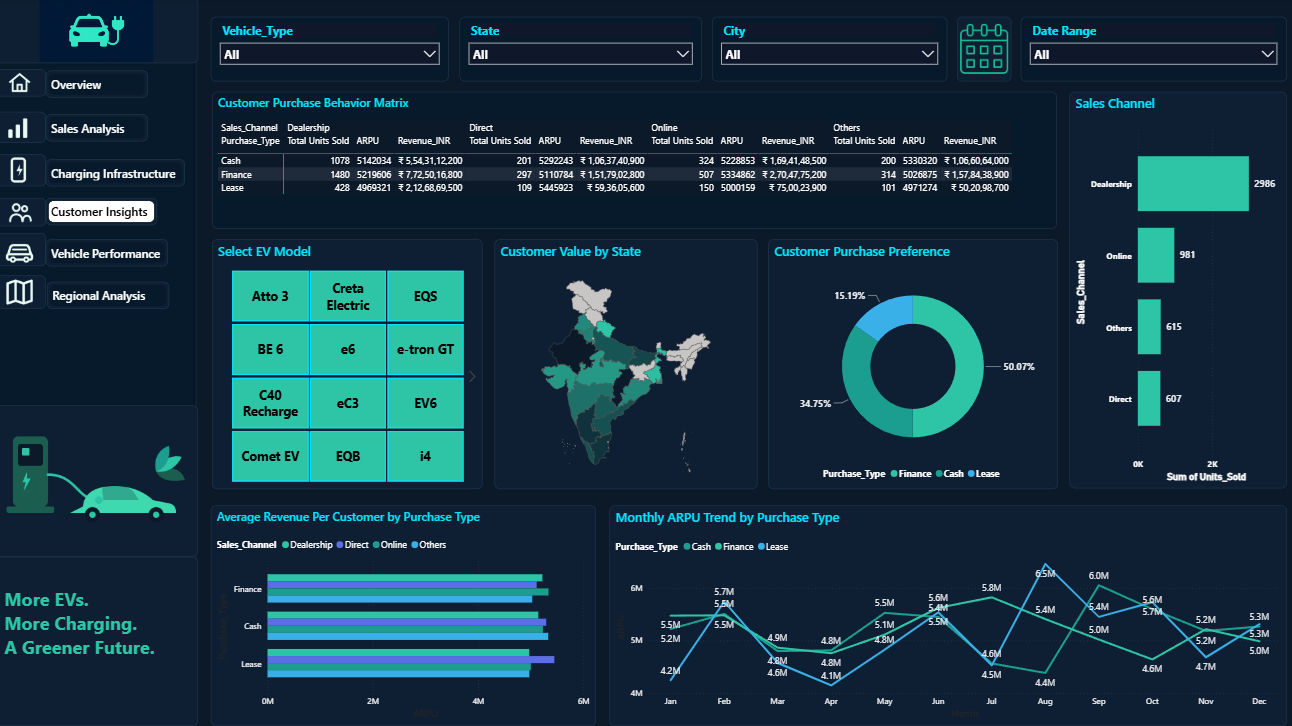

The dashboard page shown, as its layout file describes it:
{"tool":"powerbi","page":{"name":"Customer Insights","canvas":[1920,1080],"ordinal":3},"visuals":[{"type":"slicer","title":"Select EV Model","fields":{"Values":["Vehicle_Master.Model_Name"]},"box":[324.6,354.9,398.2,367.9],"z":0},{"type":"slicer","fields":{"Values":["Vehicle_Master.Vehicle_Type"]},"box":[322.5,28.1,350.6,95.2],"z":1000},{"type":"clusteredBarChart","title":"Sales Channel","fields":{"Category":["EV_Sales.Sales_Channel"],"Y":["Sum(EV_Sales.Units_Sold)"]},"box":[1586.3,138.5,320.3,584.3],"z":2000},{"type":"slicer","fields":{"Values":["DateTable.Date"]},"box":[1514.9,28.1,391.7,95.2],"z":3000},{"type":"image","box":[1420.2,28.1,80.1,95.2],"z":4000},{"type":"slicer","fields":{"Values":["Region.State"]},"box":[687.7,28.1,357.1,95.2],"z":5000},{"type":"slicer","fields":{"Values":["Region.City"]},"box":[1059.3,28.1,346.3,95.2],"z":6000},{"type":"pivotTable","title":"Customer Purchase Behavior Matrix","fields":{"Columns":["EV_Sales.Sales_Channel"],"Rows":["EV_Sales.Purchase_Type"],"Values":["EV_Sales.Total Units Sold","EV_Sales.ARPU","Sum(EV_Sales.Revenue_INR)"]},"box":[324.6,138.5,1244.4,201.3],"z":7000},{"type":"donutChart","title":"Customer Purchase Preference","fields":{"Category":["EV_Sales.Purchase_Type"],"Y":["EV_Sales.Total Units Sold"]},"box":[1142.7,354.9,426.3,367.9],"z":8000},{"type":"clusteredBarChart","title":"Average Revenue Per Customer by Purchase Type","fields":{"Category":["EV_Sales.Purchase_Type"],"Series":["EV_Sales.Sales_Channel"],"Y":["EV_Sales.ARPU"]},"box":[322.5,746.6,567,324.6],"z":9000},{"type":"lineChart","title":"Monthly ARPU Trend by Purchase Type","fields":{"Category":["DateTable.Month"],"Series":["EV_Sales.Purchase_Type"],"Y":["EV_Sales.ARPU"]},"box":[908.9,746.6,997.7,324.6],"z":10000},{"type":"shapeMap","title":"Customer Value by State","fields":{"Category":["Region.State"],"Value":["EV_Sales.ARPU"]},"box":[740.1,354.9,387.4,367.9],"z":11000},{"type":"shape","box":[0,0,300.8,1079.9],"z":12000},{"type":"image","box":[1.8,600,301.8,222.7],"z":13000},{"type":"textbox","box":[1.8,822.7,301.8,248.5],"z":14000},{"type":"image","box":[3.7,0,300,95.7],"z":15000},{"type":"image","box":[1.8,105,77.8,39.8],"z":16000},{"type":"image","box":[1.8,168.3,77.8,45.2],"z":17000},{"type":"image","box":[1.8,229.8,77.8,47.1],"z":18000},{"type":"image","box":[1.8,295,77.8,41.6],"z":19000},{"type":"image","box":[1.8,345.6,77.8,48.9],"z":20000},{"type":"image","box":[1.8,409,77.8,48.9],"z":21000},{"type":"actionButton","box":[79.6,106.8,150,40],"z":22000},{"type":"actionButton","box":[79.6,171.9,150,40],"z":23000},{"type":"actionButton","box":[79.6,237.1,205.1,39.8],"z":24000},{"type":"actionButton","box":[79.6,295,164.1,39.8],"z":25000},{"type":"actionButton","box":[79.6,354.7,179.8,39.8],"z":26000},{"type":"actionButton","box":[81.4,418,179.8,39.8],"z":27000}]}

Visuals, with their boxes on the page's 1920x1080 design canvas (x1, y1, x2, y2). These are canvas units, not pixel positions in the 1292x726 screenshot, which may show the page scaled, cropped or inside an application window:
"Select EV Model" slicer: 325/355/723/723
slicer - Vehicle_Master.Vehicle_Type: 322/28/673/123
"Sales Channel" clusteredBarChart: 1586/138/1907/723
slicer - DateTable.Date: 1515/28/1907/123
image: 1420/28/1500/123
slicer - Region.State: 688/28/1045/123
slicer - Region.City: 1059/28/1406/123
"Customer Purchase Behavior Matrix" pivotTable: 325/138/1569/340
"Customer Purchase Preference" donutChart: 1143/355/1569/723
"Average Revenue Per Customer by Purchase Type" clusteredBarChart: 322/747/890/1071
"Monthly ARPU Trend by Purchase Type" lineChart: 909/747/1907/1071
"Customer Value by State" shapeMap: 740/355/1128/723
shape: 0/0/301/1080
image: 2/600/304/823
textbox: 2/823/304/1071
image: 4/0/304/96
image: 2/105/80/145
image: 2/168/80/214
image: 2/230/80/277
image: 2/295/80/337
image: 2/346/80/394
image: 2/409/80/458
actionButton: 80/107/230/147
actionButton: 80/172/230/212
actionButton: 80/237/285/277
actionButton: 80/295/244/335
actionButton: 80/355/259/394
actionButton: 81/418/261/458
